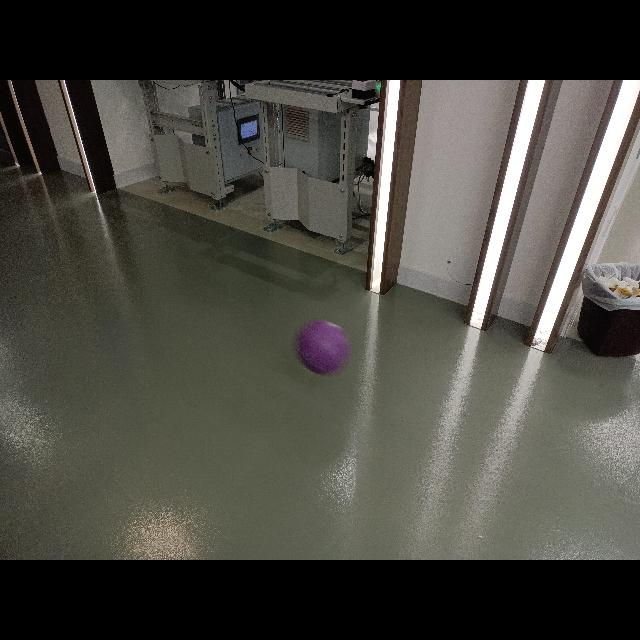P: (294, 318, 354, 378)
